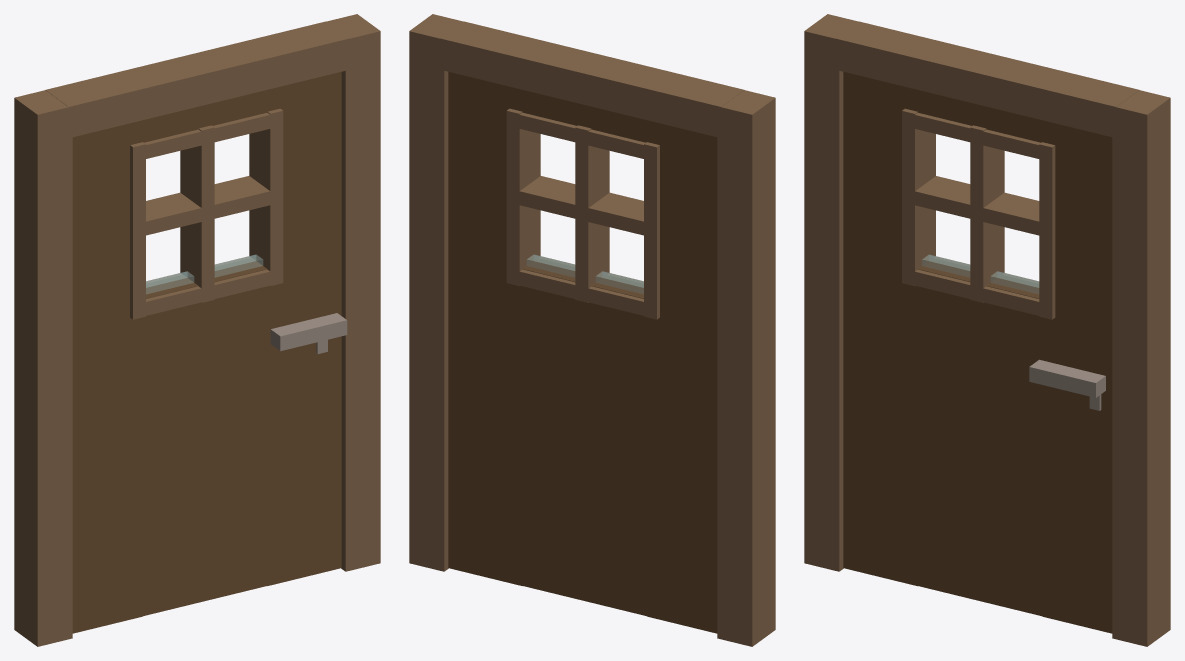
File: kapı 1.2.1.fbx
3 renders of one model, left to right at view 1: azimuth 30°, elevation 25°; view 2: azimuth 150°, elevation 25°; view 3: azimuth 330°, elevation 25°, orthographic.
Parts seen in each view (by area): view 1: pCube33; view 2: pCube33; view 3: pCube33.
Part boxes in pixels (box(x1,y1,x2,y2)): pCube33: box(14, 14, 380, 646); pCube33: box(409, 14, 775, 646); pCube33: box(804, 14, 1170, 646).
Bounding box in the file's own units: 909 × 1348 × 148.
